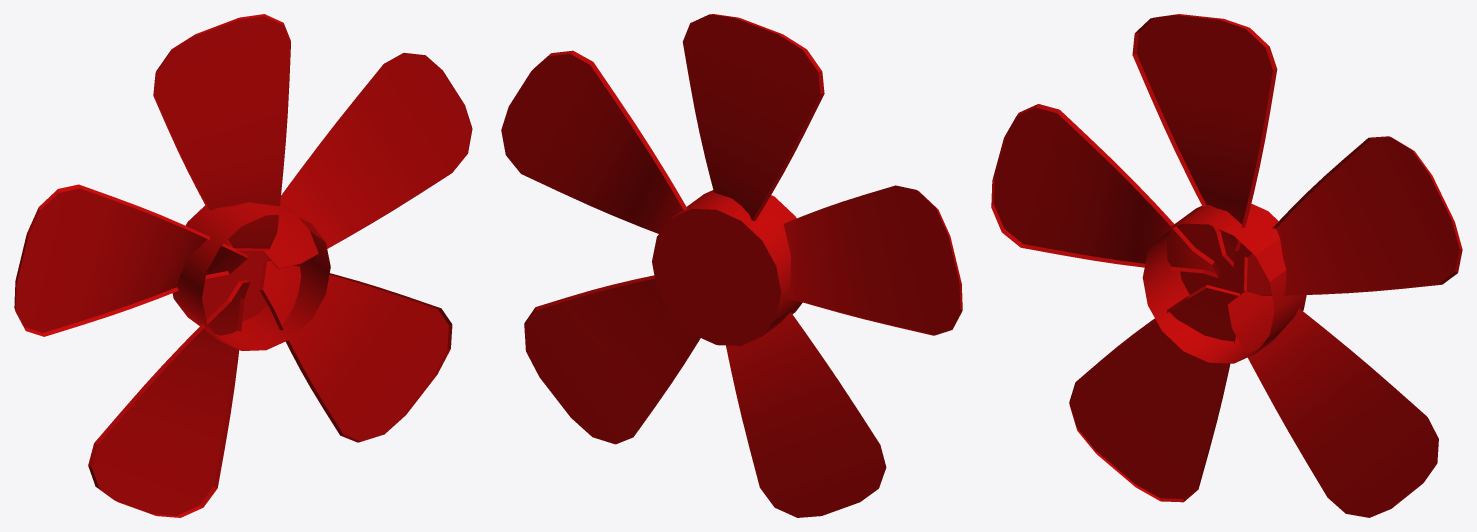
The model's file is WheelVent_low.fbx.
3 views of the same model, side by side, from view 1: azimuth 30°, elevation 25°; view 2: azimuth 150°, elevation 25°; view 3: azimuth 330°, elevation 25° (orthographic). The views are drawn at different scales.
Visible parts, largest first — view 1: Ventwheel_low; view 2: Ventwheel_low; view 3: Ventwheel_low.
Part boxes in pixels (x1,y1,x2,y2): Ventwheel_low: (14, 14, 472, 517); Ventwheel_low: (501, 14, 962, 517); Ventwheel_low: (991, 14, 1462, 517).
Size of the model in its own units: 168 by 170 by 21.09.
